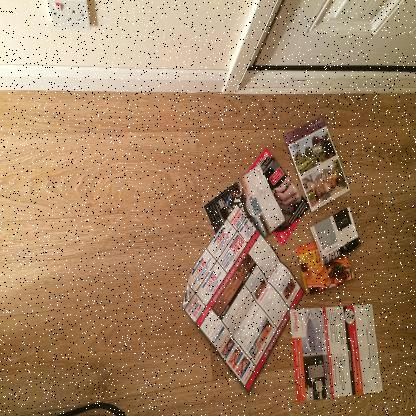paper: (183, 210, 304, 392), (287, 302, 386, 400), (204, 149, 306, 244), (286, 114, 353, 210), (298, 245, 357, 296), (312, 206, 364, 260)
